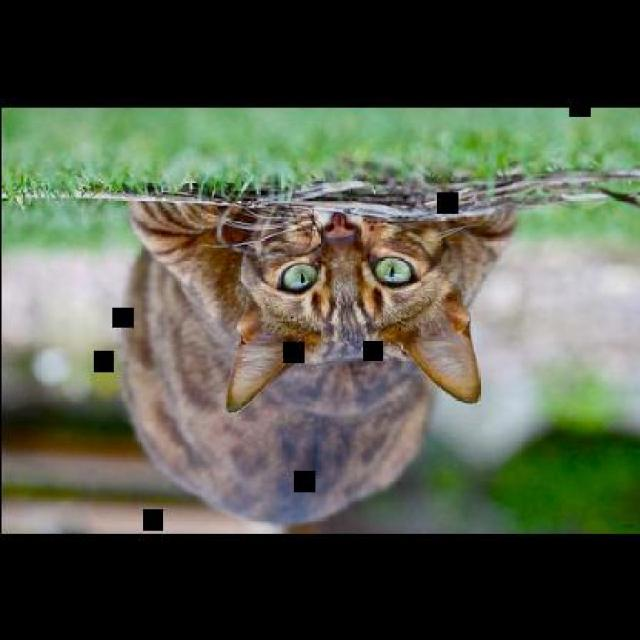unauthorized: (115, 192, 517, 525)
